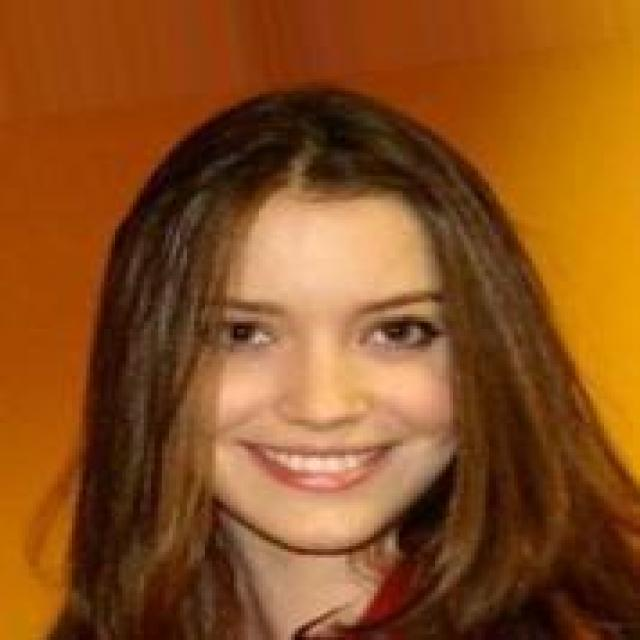nomask: (82, 100, 536, 525)
